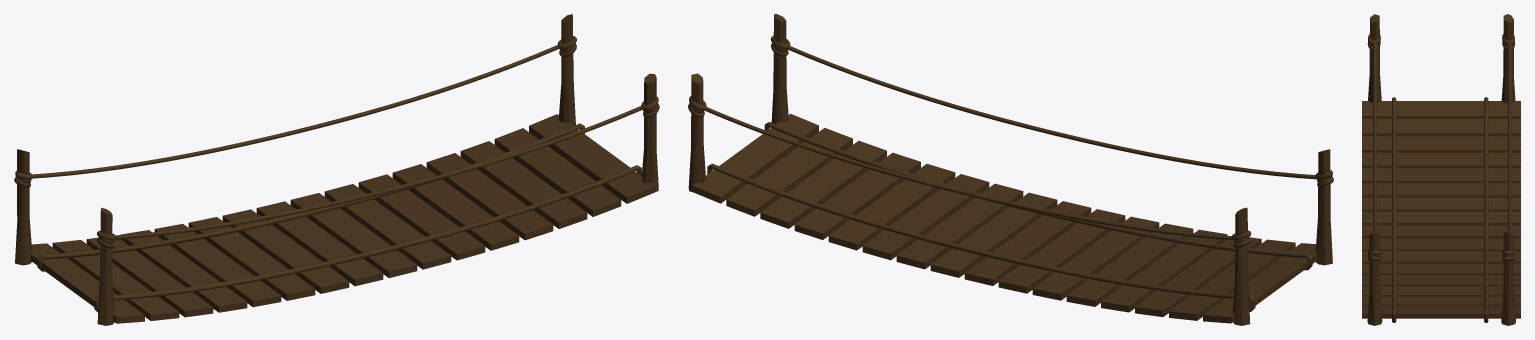
The model's file is köprüü.fbx.
3 renders of one model, left to right at view 1: azimuth 30°, elevation 25°; view 2: azimuth 150°, elevation 25°; view 3: azimuth 270°, elevation 25°, orthographic. The views are drawn at different scales.
Visible parts, largest first — view 1: Bridge .001; view 2: Bridge .001; view 3: Bridge .001.
Part boxes in pixels (bbox=[...]): Bridge .001: bbox=[14, 14, 659, 325]; Bridge .001: bbox=[688, 14, 1333, 325]; Bridge .001: bbox=[1362, 14, 1520, 325].
Size of the model in its own units: 9.9 by 2.29 by 3.
